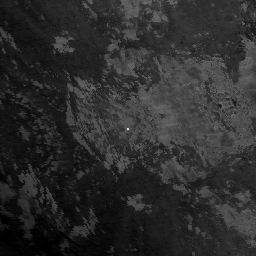Target: (125, 126, 130, 131)
